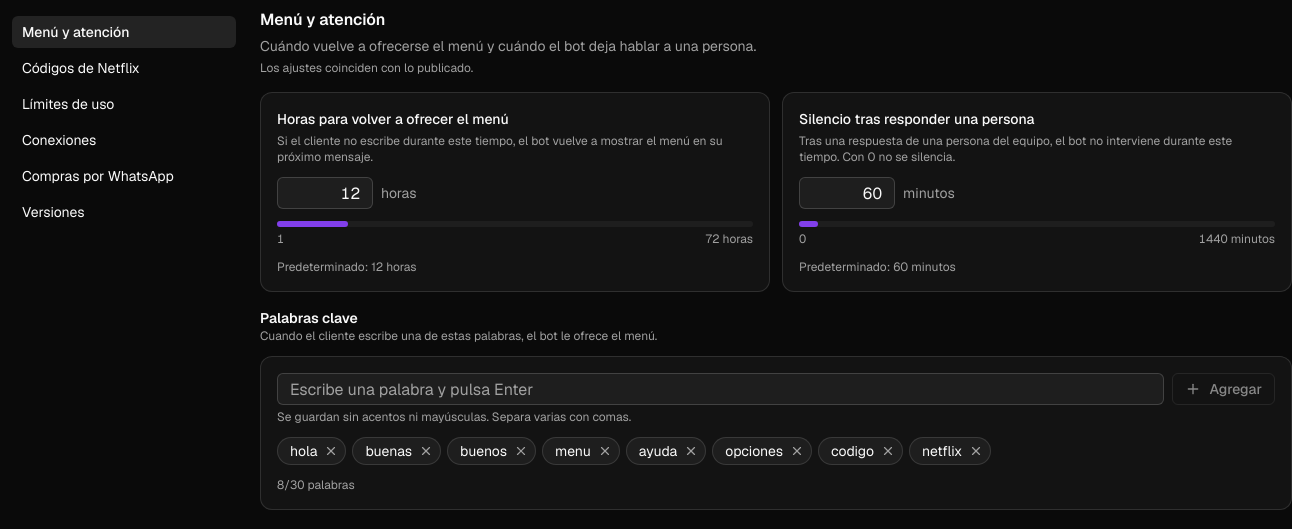
ajustes › marca lo cambiado respecto de lo publicado y permite volver al valor predeterminado
This screenshot has width=1292, height=529.
Step 1. Replace the text in the field labelled "Horas para volver a ofrecer el menú" with "24" → (325, 193), box [277,177,373,209]
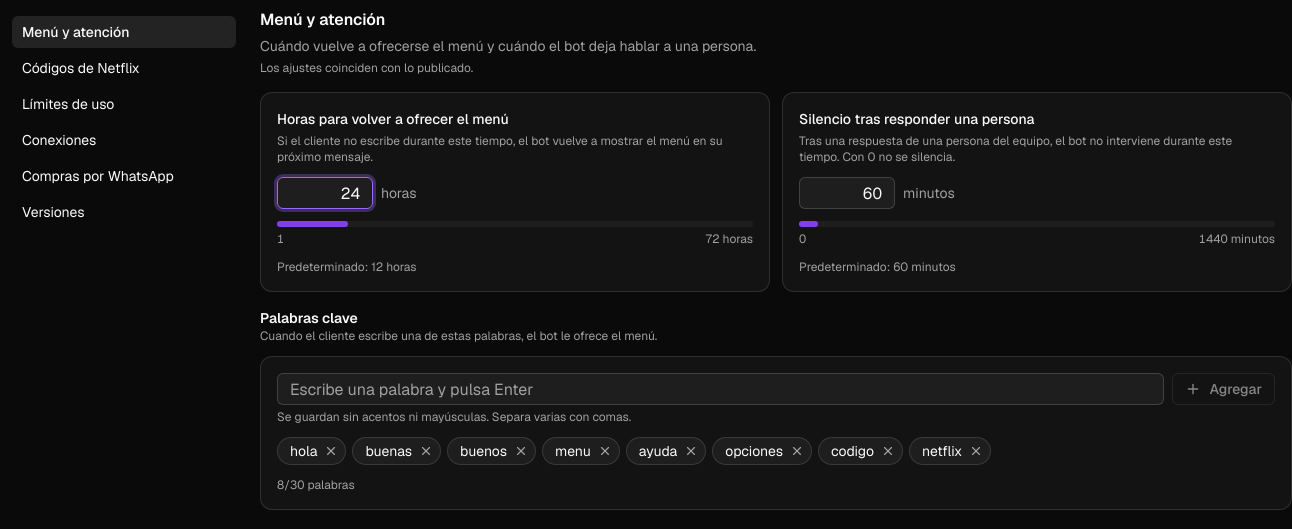
Step 2. Press Tab
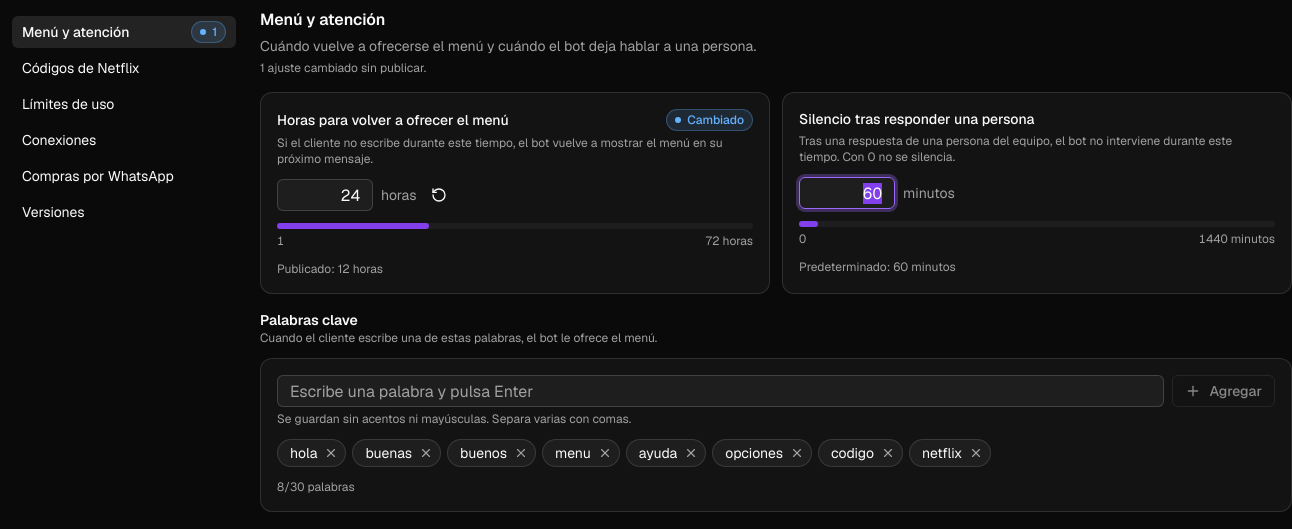
Check: the text "Cambiado" is shown, box [666,109,753,131]
Check: the text "Publicado: 12 horas" is shown, box [277,261,383,277]
Check: the message reads "1 ajuste cambiado sin publicar.", box [260,60,426,76]
Step 3. Click the button named "Restablecer «Horas para volver" → click(438, 195), box [424,181,452,209]
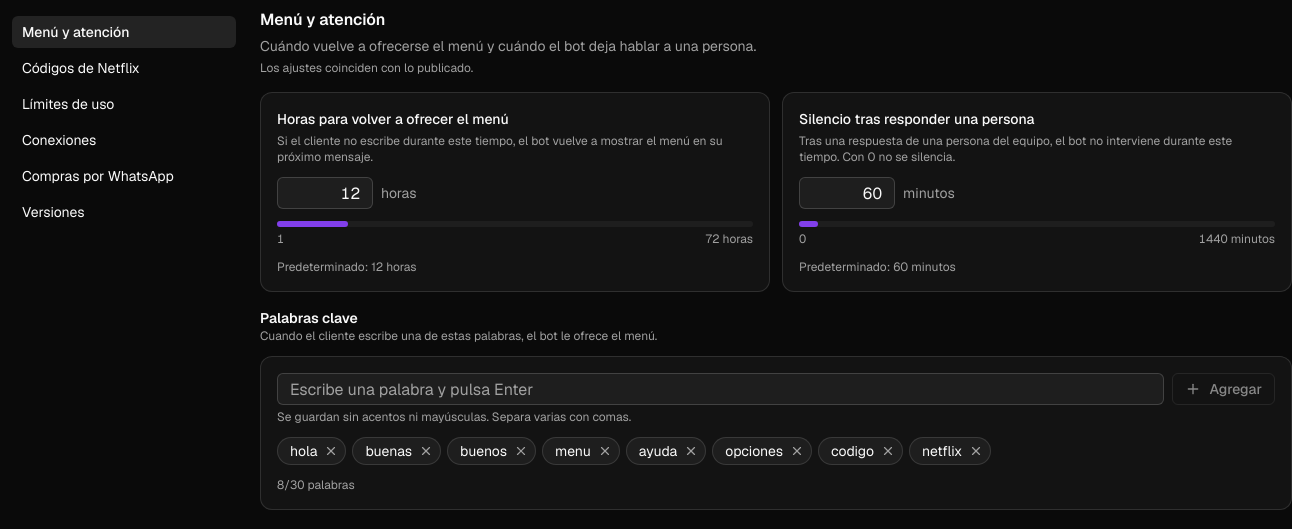
Check: the text "Los ajustes coinciden con lo publicado." is shown, box [260,60,473,76]
